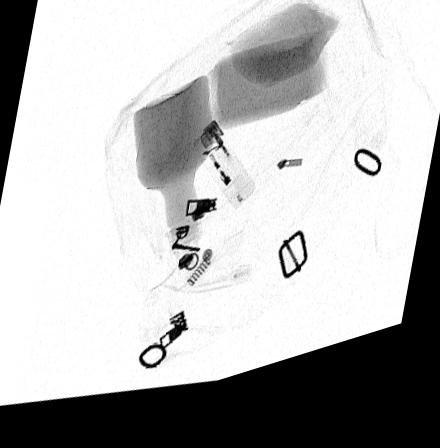Lighter: (193, 131, 256, 223)
